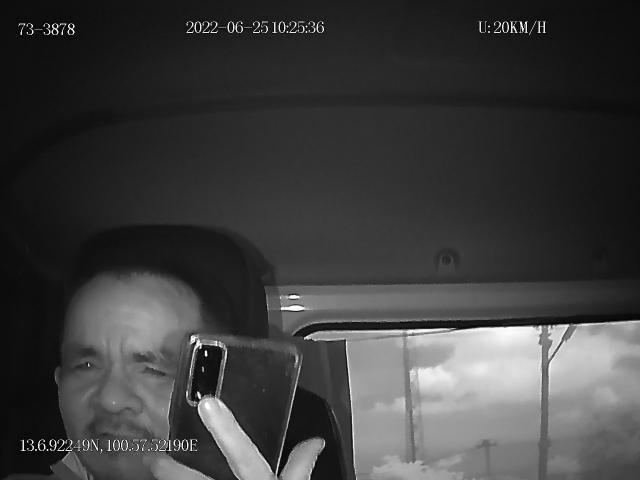PhoneUse: (168, 332, 302, 480)
SafeDriving: (132, 350, 176, 388), (64, 346, 108, 380)
